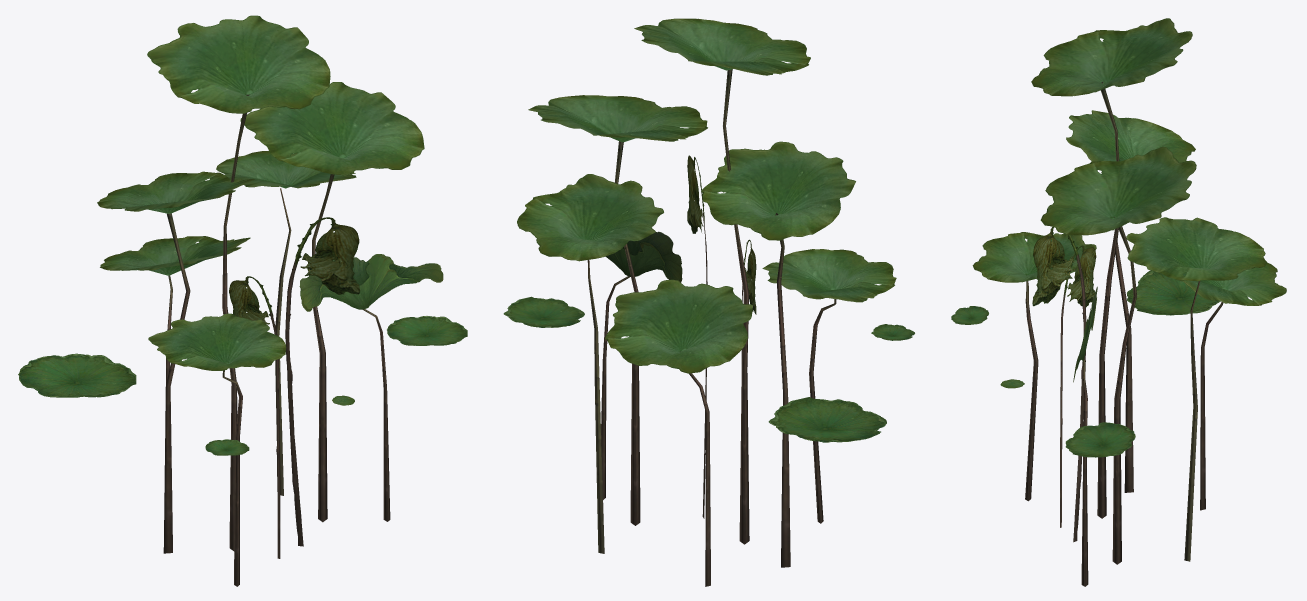
The model's file is ZYtree_gg_xinhehua02.FBX.
3 views of the same model, side by side, from view 1: azimuth 30°, elevation 25°; view 2: azimuth 150°, elevation 25°; view 3: azimuth 270°, elevation 25° (orthographic). The views are drawn at different scales.
Parts seen in each view (by area): view 1: ZYtree_gg_xinhehua02; view 2: ZYtree_gg_xinhehua02; view 3: ZYtree_gg_xinhehua02.
Part boxes in pixels (x1,y1,x2,y2): ZYtree_gg_xinhehua02: [18, 15, 467, 586]; ZYtree_gg_xinhehua02: [503, 18, 914, 586]; ZYtree_gg_xinhehua02: [951, 18, 1286, 586].
Size of the model in its own units: 511 by 596 by 386.
